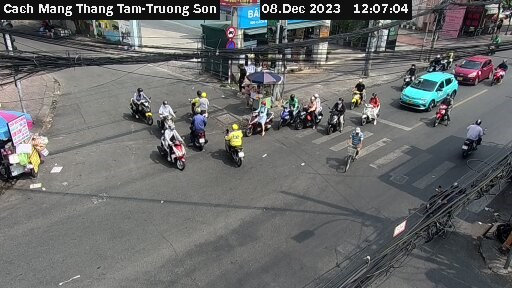car: (400, 71, 457, 113), (454, 57, 494, 88)
motorbike: (151, 132, 197, 174), (220, 128, 258, 168), (124, 87, 157, 125), (459, 124, 492, 162), (245, 104, 275, 137), (320, 102, 350, 134), (184, 88, 219, 115), (185, 111, 213, 144), (276, 98, 302, 130), (344, 79, 375, 105), (297, 97, 322, 129), (153, 102, 181, 130), (355, 99, 383, 125), (435, 95, 456, 127), (493, 61, 512, 86), (400, 62, 420, 85)
